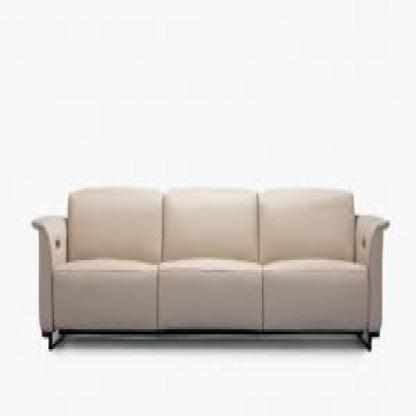sofa: (35, 183, 391, 352)
